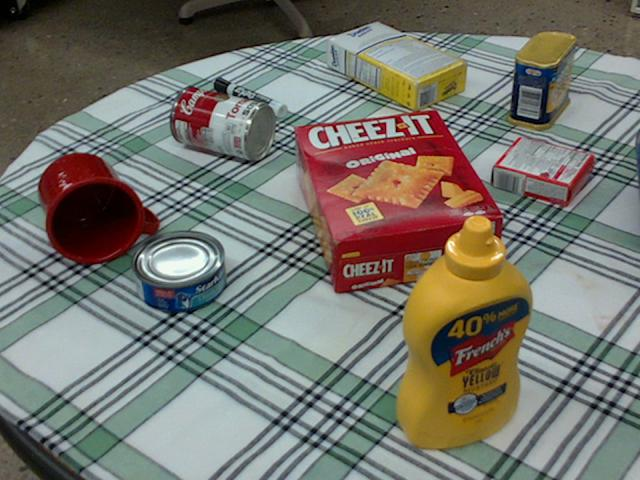cracker_box: (297, 109, 504, 290)
gelatin_box: (491, 136, 591, 203)
large_marker: (213, 77, 285, 116)
master_chef_can: (631, 124, 639, 199)
mug: (37, 152, 155, 263)
mustard_bottle: (398, 213, 534, 446)
potted_meat_can: (506, 31, 574, 129)
sugar_box: (327, 21, 469, 110)
tomato_soup_can: (169, 85, 275, 158)
tuna_fish_can: (129, 229, 224, 312)
